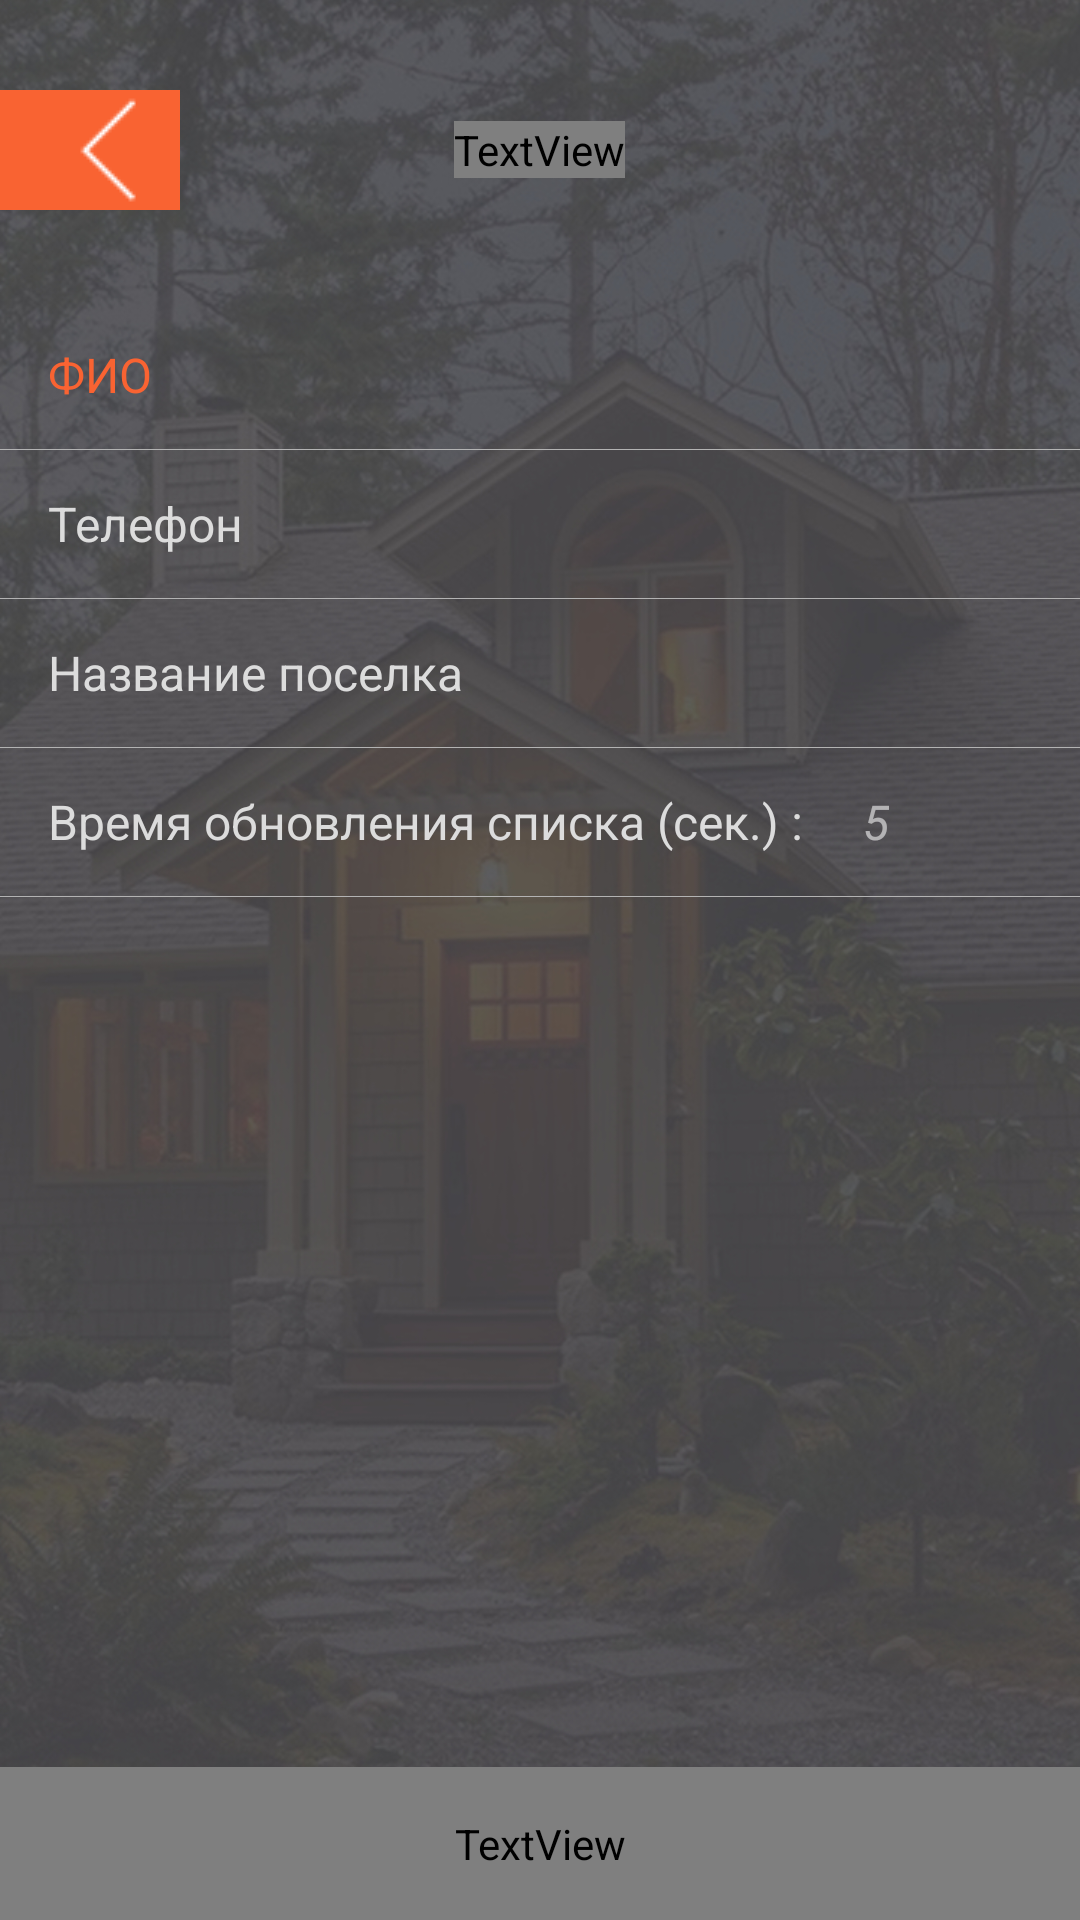

Icons on this 1080 × 1920 Android screen, each with the point to tap as point (x, y):
lightarrowleft: point (90, 150)
